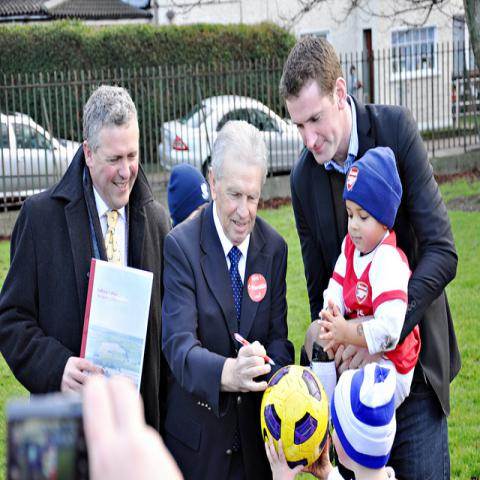car: (158, 93, 305, 175), (0, 110, 82, 198)
